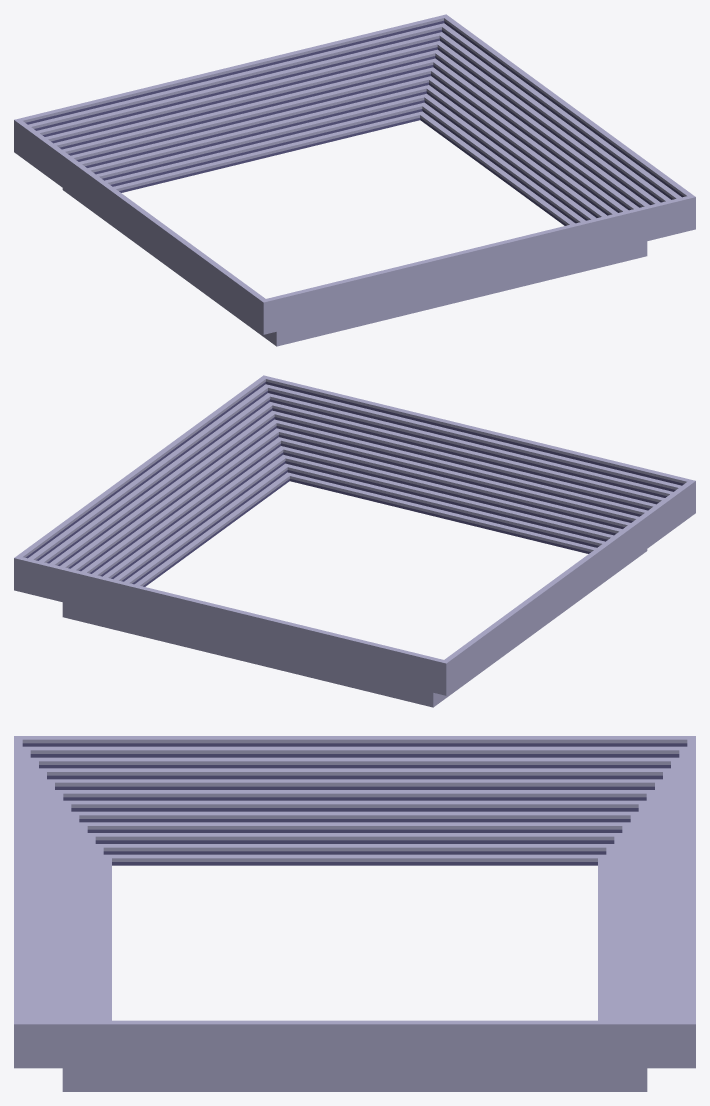
The model's file is bleachersgrouped.glb.
The picture shows the model from 3 angles, top to bottom: view 1: azimuth 30°, elevation 25°; view 2: azimuth 150°, elevation 25°; view 3: azimuth 270°, elevation 25°; orthographic projection. The views are drawn at different scales.
Parts seen in each view (by area): view 1: mergedBlocks(Clone); view 2: mergedBlocks(Clone); view 3: mergedBlocks(Clone).
Boxes of the visible parts, box(x1,y1,x2,y2) form: mergedBlocks(Clone): box(14, 14, 695, 346); mergedBlocks(Clone): box(14, 375, 695, 707); mergedBlocks(Clone): box(14, 736, 695, 1091).
Size of the model in its own units: 14 by 2 by 14.
